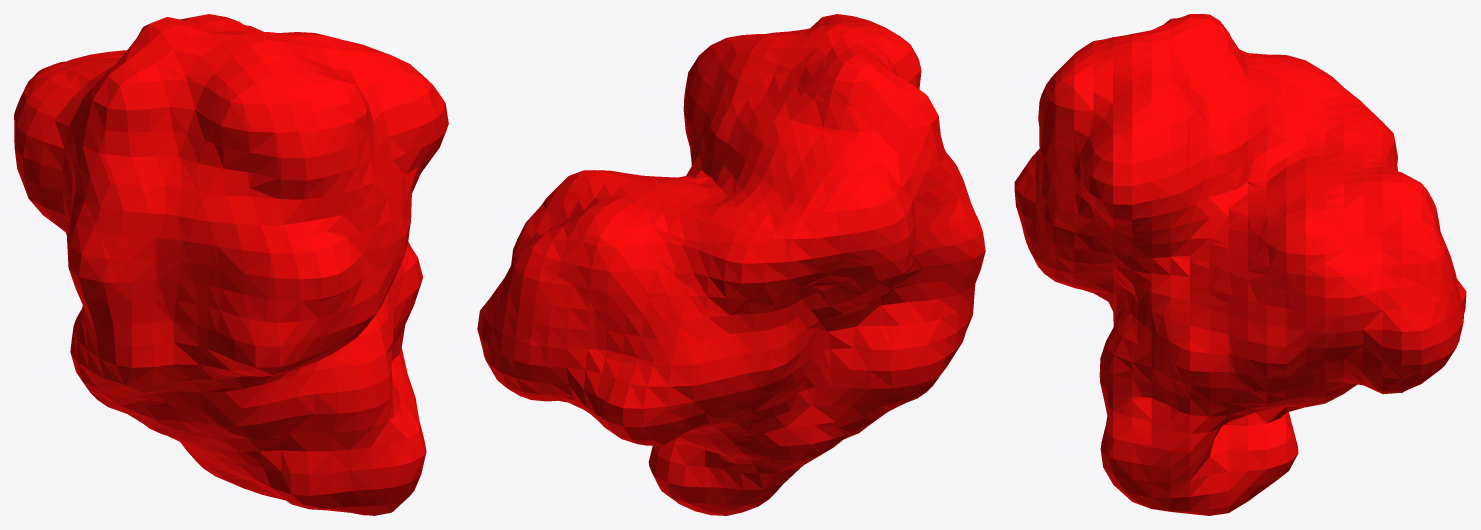
File: kdsD_coarse.dae
3 views of the same model, side by side, from view 1: azimuth 30°, elevation 25°; view 2: azimuth 150°, elevation 25°; view 3: azimuth 270°, elevation 25° (orthographic). The views are drawn at different scales.
Parts seen in each view (by area): view 1: kdsD; view 2: kdsD; view 3: kdsD.
Boxes of the visible parts, x1,y1,x2,y2 form: kdsD: (14, 14, 448, 515); kdsD: (477, 14, 985, 515); kdsD: (1014, 14, 1466, 515).
Bounding box in the file's own units: 48.46 × 59.85 × 57.06.
